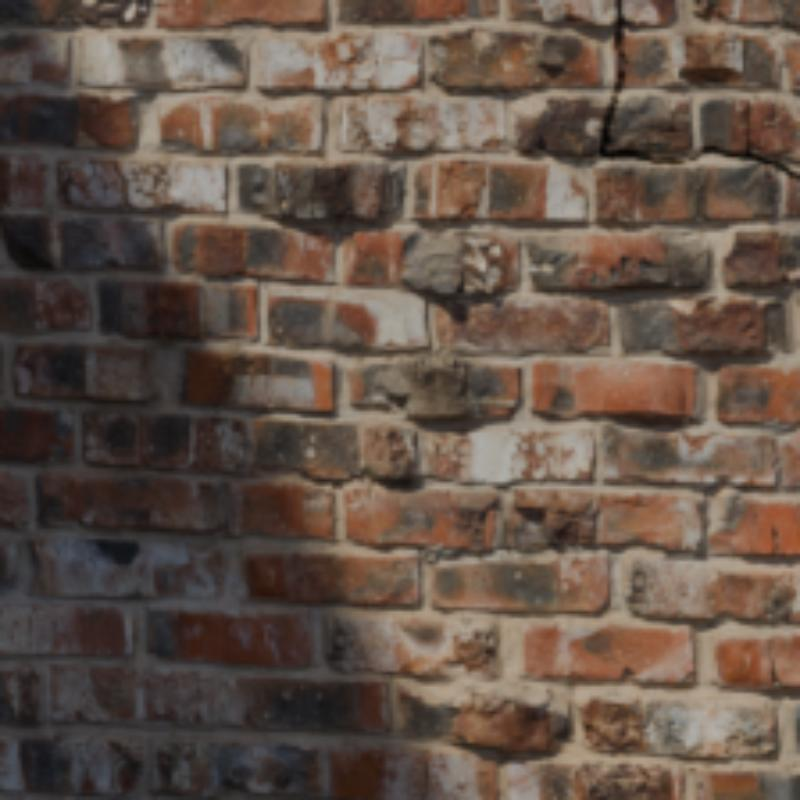pothole: (600, 0, 796, 179)
